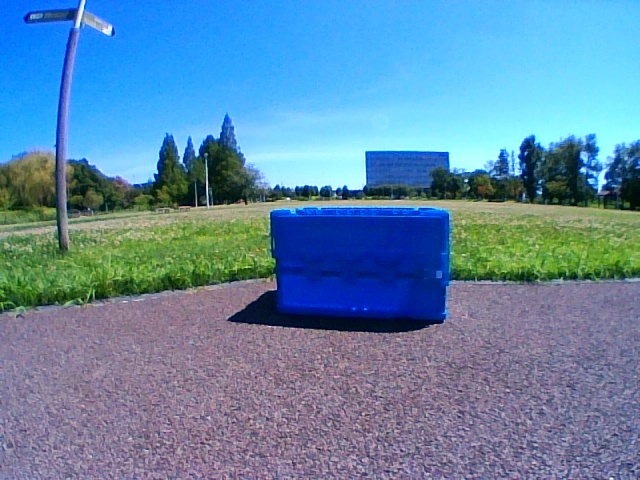blue_box: (270, 206, 450, 324)
